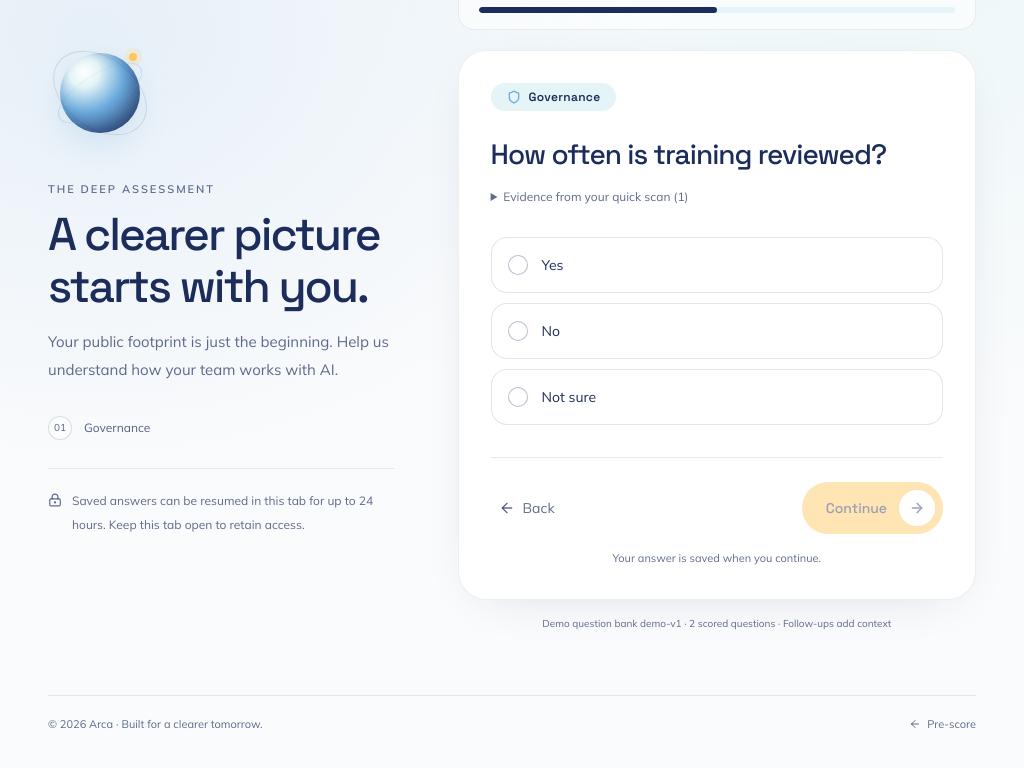
Test: assessment route interactions › resumes the first unanswered server question after a reload without starting over
This screenshot has width=1024, height=768.
(page scrolled)
expect the heading "How often is training reviewed?" is shown: met, box [491, 134, 943, 173]
What coordinates should you click on to do the following:
click the button "Back"
I would click on:
 (527, 508)
Its box is [491, 486, 563, 530].
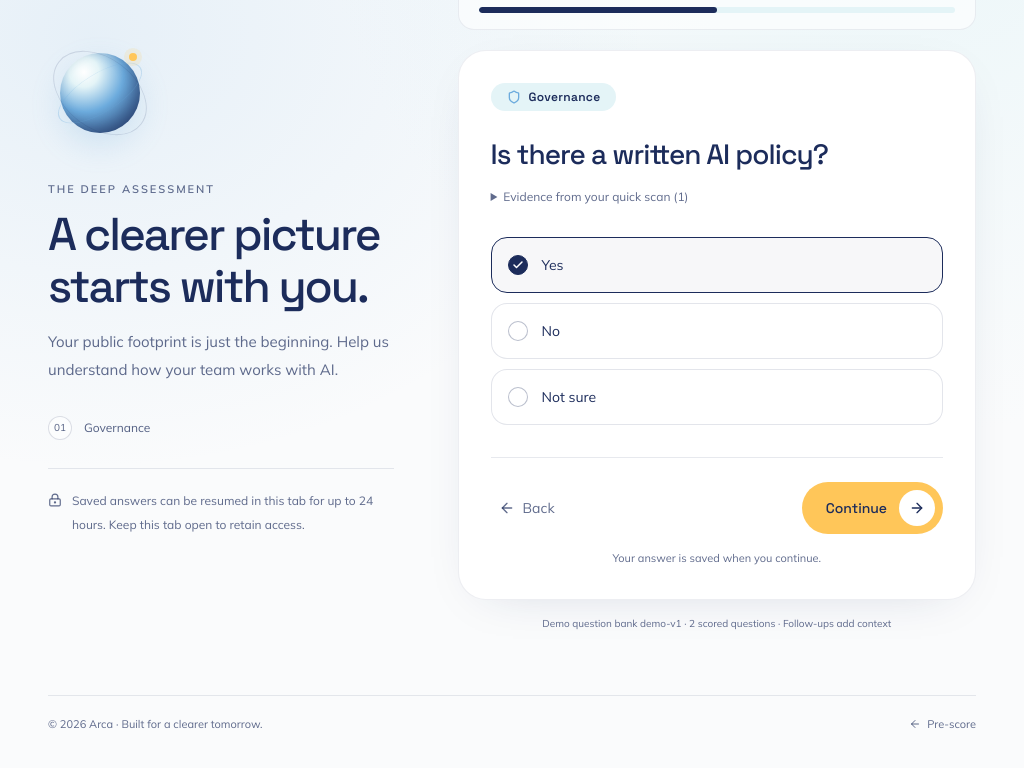
expect the radio button labelled "Yes" is checked: met, box [491, 237, 943, 293]
